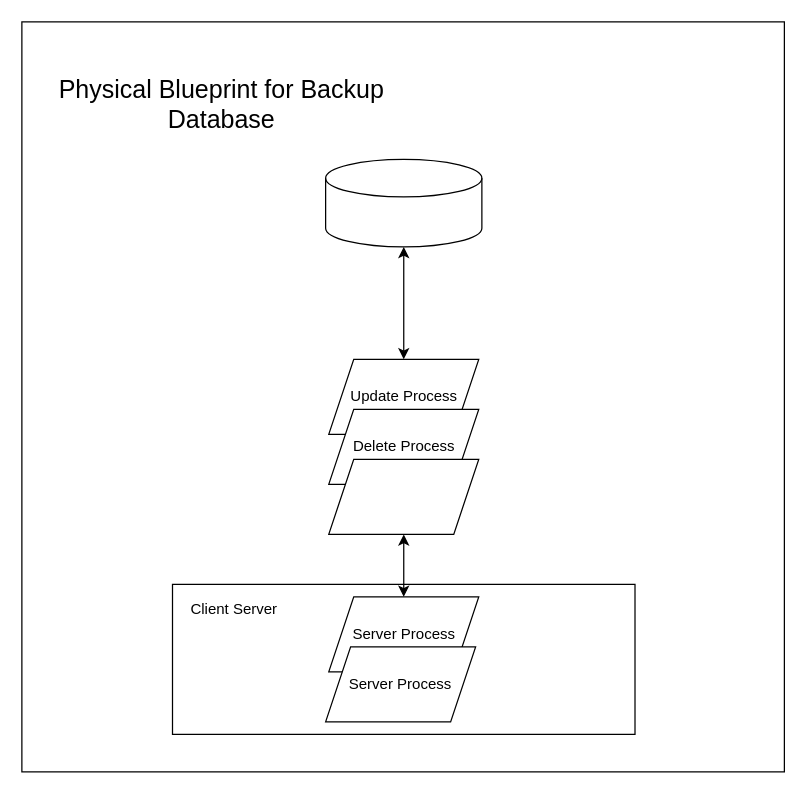
Some shapes in this 806 by 794 pixel diagram are drawn without their labels. Each missing label, with the box of its shape:
Query Process: (328, 458, 479, 534)
SQLite Database: (324, 158, 482, 247)
